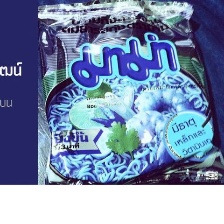snack: (28, 0, 224, 183)
